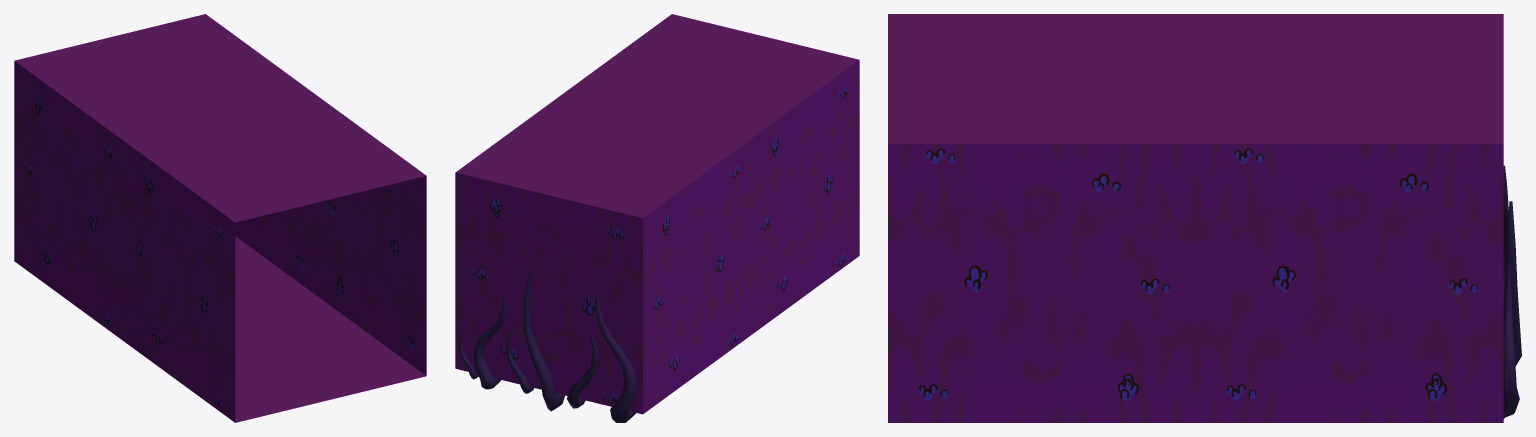
Rendered from lvl3_groundBottom.fbx.
3 renders of one model, left to right at view 1: azimuth 30°, elevation 25°; view 2: azimuth 150°, elevation 25°; view 3: azimuth 270°, elevation 25°, orthographic. The views are drawn at different scales.
Visible parts, largest first — view 1: groundBottom_lvl3; view 2: groundBottom_lvl3; view 3: groundBottom_lvl3.
Part boxes in pixels (left/top/right/bottom): groundBottom_lvl3: left=14, top=14, right=426, bottom=422; groundBottom_lvl3: left=455, top=14, right=859, bottom=422; groundBottom_lvl3: left=888, top=14, right=1521, bottom=422.
Bounding box in the file's own units: 100 × 110 × 206.
